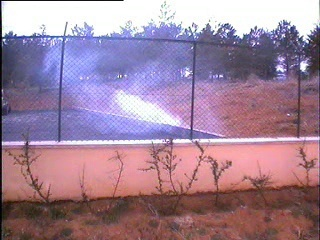smoke: (66, 40, 189, 130)
